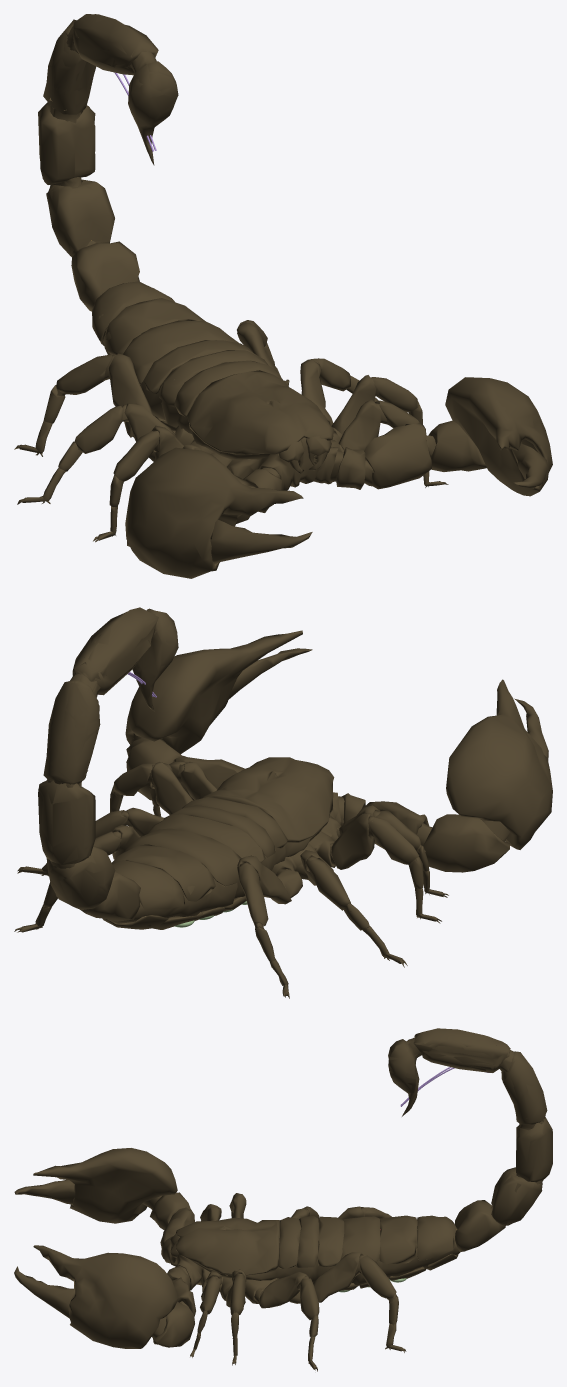
File: scorpion.glb
3 renders of one model, top to bottom at view 1: azimuth 30°, elevation 25°; view 2: azimuth 150°, elevation 25°; view 3: azimuth 270°, elevation 25°, orthographic. The views are drawn at different scales.
Visible parts, largest first — view 1: Scorpion_body_Poly; view 2: Scorpion_body_Poly; view 3: Scorpion_body_Poly.
Boxes of the visible parts, left/top/right/bottom form: Scorpion_body_Poly: left=14, top=14, right=552, bottom=578; Scorpion_body_Poly: left=14, top=607, right=552, bottom=998; Scorpion_body_Poly: left=14, top=1028, right=552, bottom=1371.
Bounding box in the file's own units: 1.29 × 1.13 × 2.
